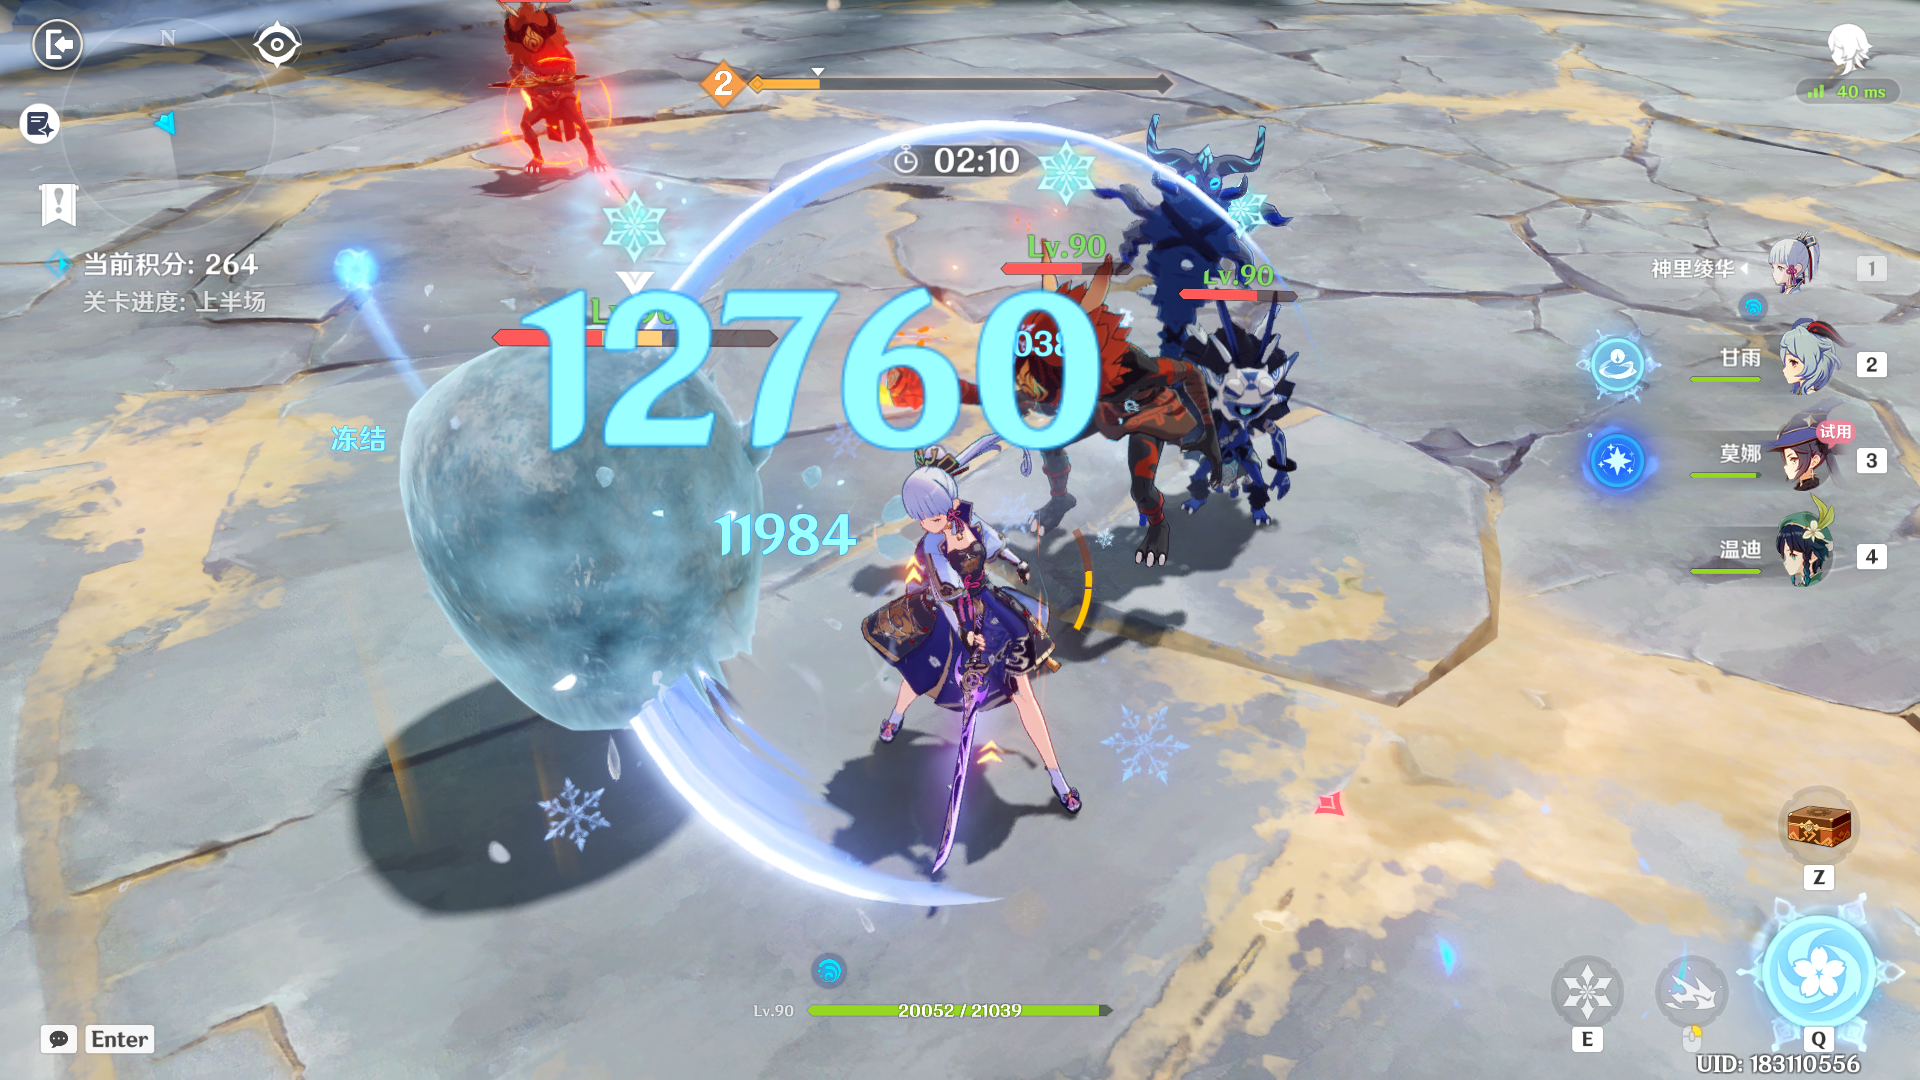character: (832, 440, 1138, 907)
hili: (1120, 117, 1333, 564), (909, 239, 1188, 578), (450, 1, 645, 173)
slime: (363, 294, 787, 735)
